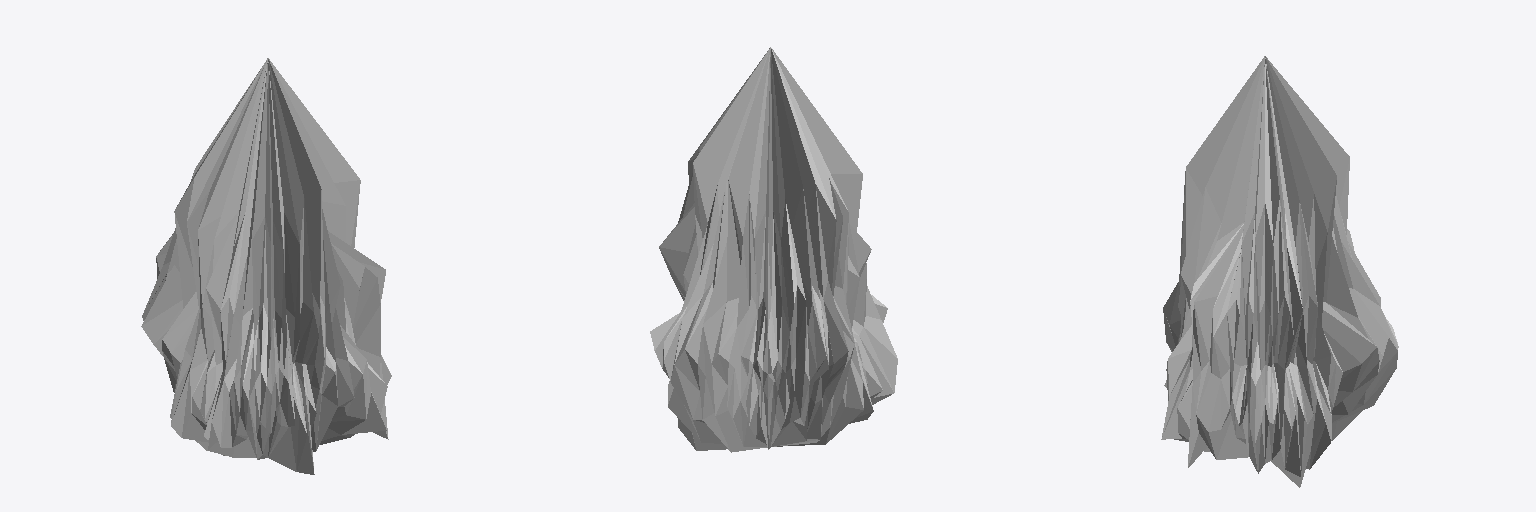
File: siren_crystal.obj
3 renders of one model, left to right at view 1: azimuth 30°, elevation 25°; view 2: azimuth 150°, elevation 25°; view 3: azimuth 270°, elevation 25°, orthographic.
Parts seen in each view (by area): view 1: Cone; view 2: Cone; view 3: Cone.
Part boxes in pixels (x1,y1,x2,y2): Cone: (141,58,391,474); Cone: (650,47,897,452); Cone: (1161,56,1398,487).
Size of the model in its own units: 1.5 by 2.98 by 1.58.